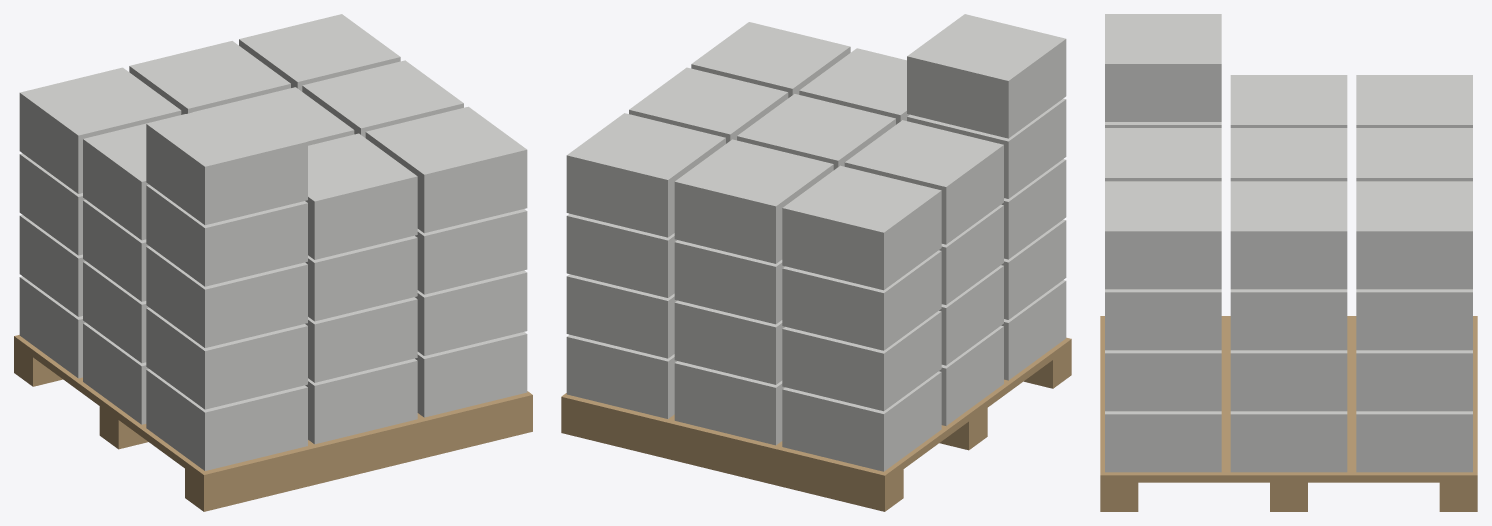
The model's file is pallet_mp_37.glb.
The picture shows the model from 3 angles, left to right: view 1: azimuth 30°, elevation 25°; view 2: azimuth 150°, elevation 25°; view 3: azimuth 270°, elevation 25°; orthographic projection.
Visible parts, largest first — view 1: PalletMP; view 2: PalletMP; view 3: PalletMP.
Boxes of the visible parts, x1,y1,x2,y2 form: PalletMP: (14,14,532,511); PalletMP: (561,14,1071,511); PalletMP: (1100,14,1477,511).
Size of the model in its own units: 1 by 0.9957 by 1.
